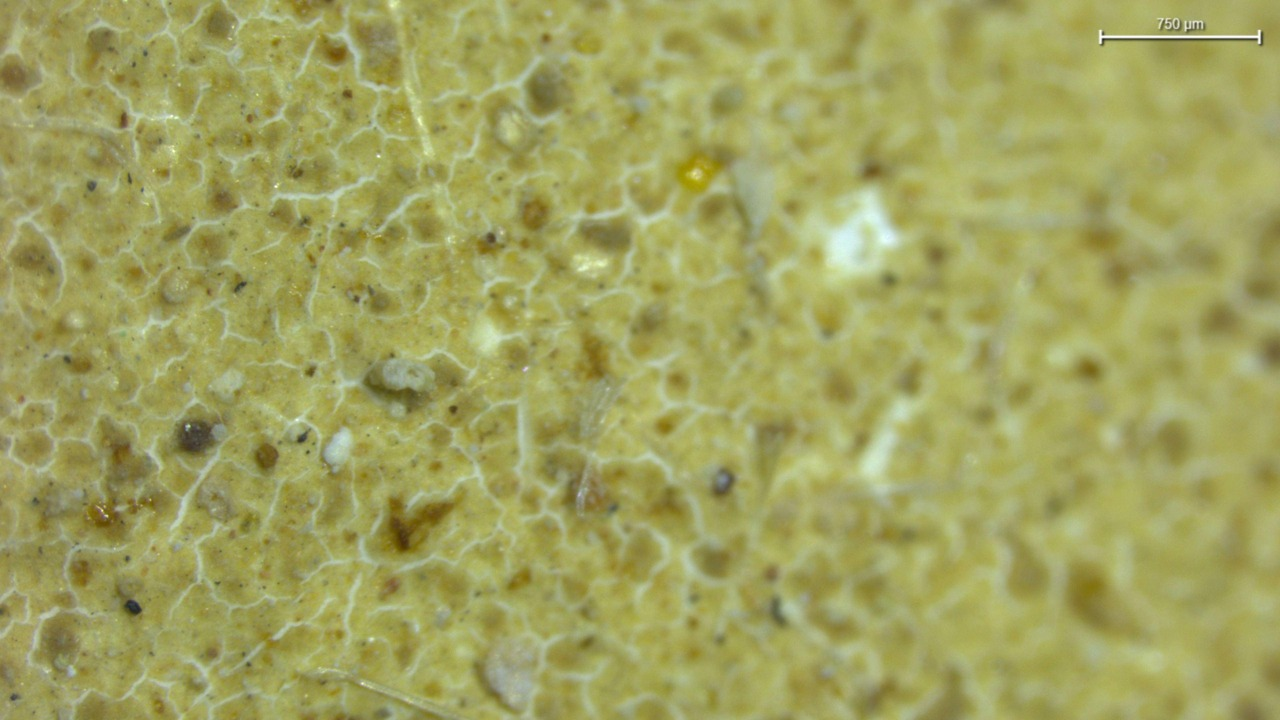microplastic_fragment: (482, 638, 536, 712), (369, 358, 434, 393), (321, 427, 353, 473)
